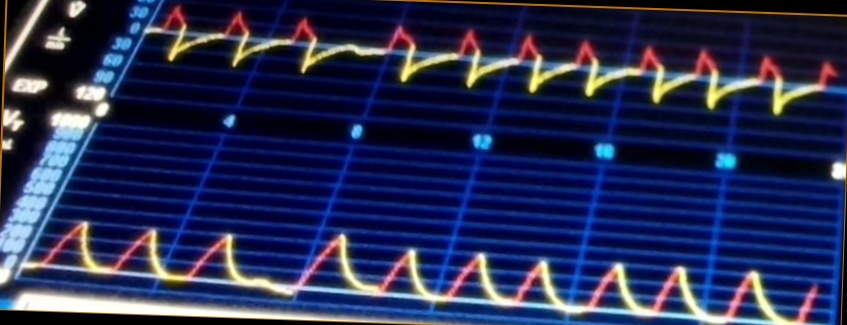Ineffective_effort Flow: (152, 5, 836, 123)
Ineffective_effort Volume: (37, 211, 820, 325)
